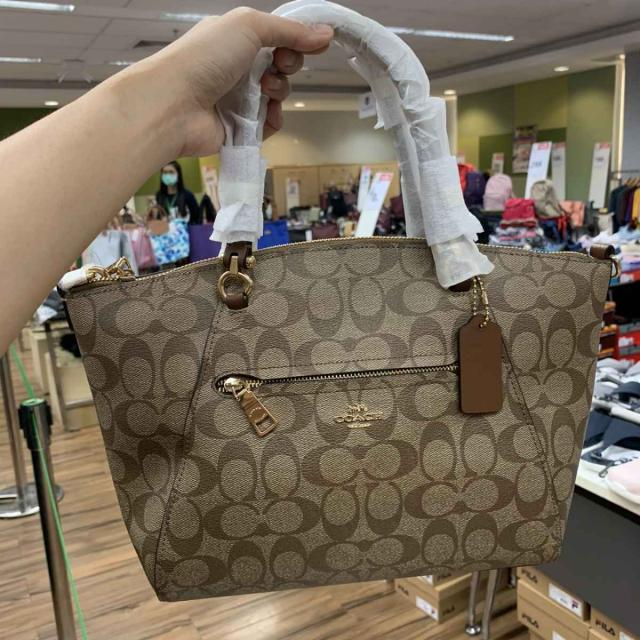Handbag: (64, 232, 614, 604)
